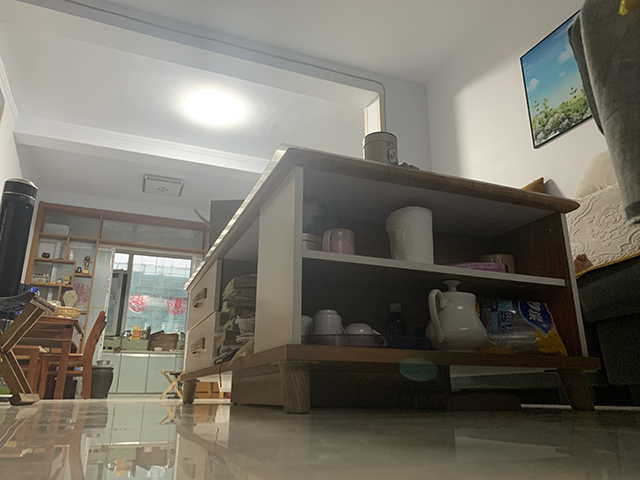cabinet: (102, 349, 183, 395)
stool: (1, 290, 60, 407), (36, 310, 107, 399), (157, 369, 185, 398)
table: (181, 139, 599, 415), (6, 314, 85, 400)
